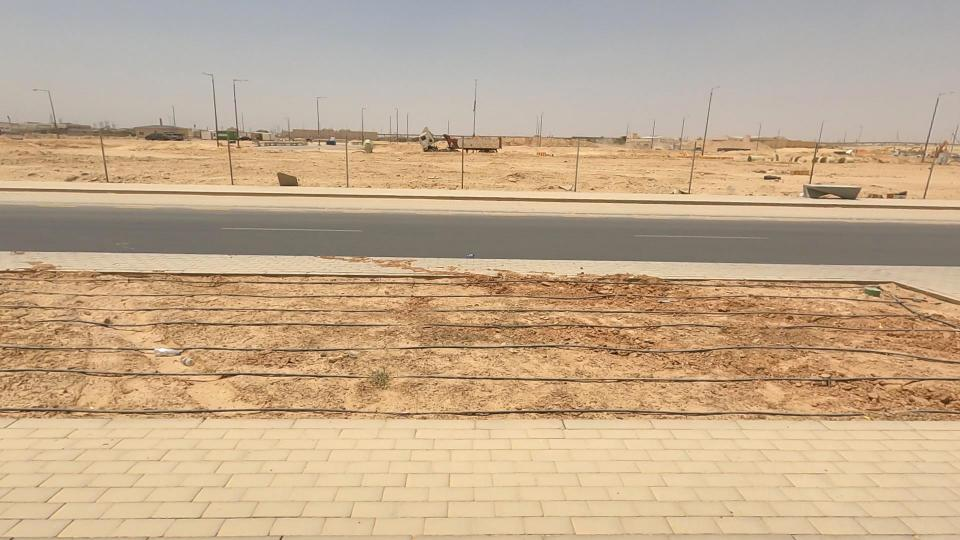CLUTTER_SIDEWALK: (160, 170, 960, 489), (0, 195, 459, 475)
GARBAGE: (110, 321, 235, 389)
